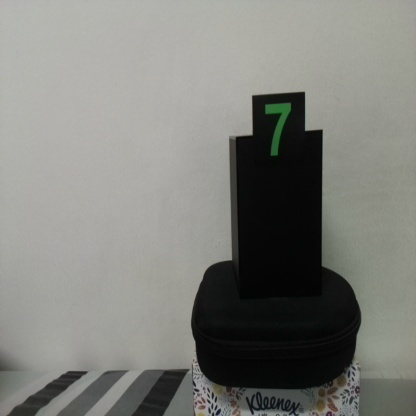id_7: (252, 95, 306, 176)
